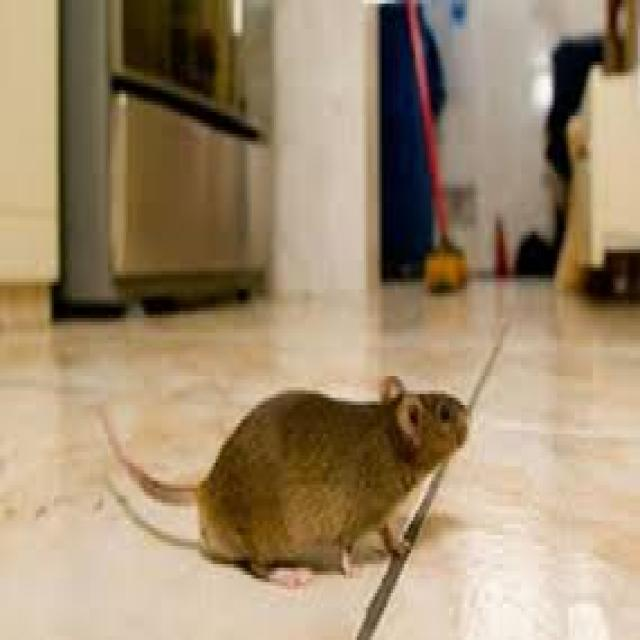rat: (196, 368, 488, 583)
